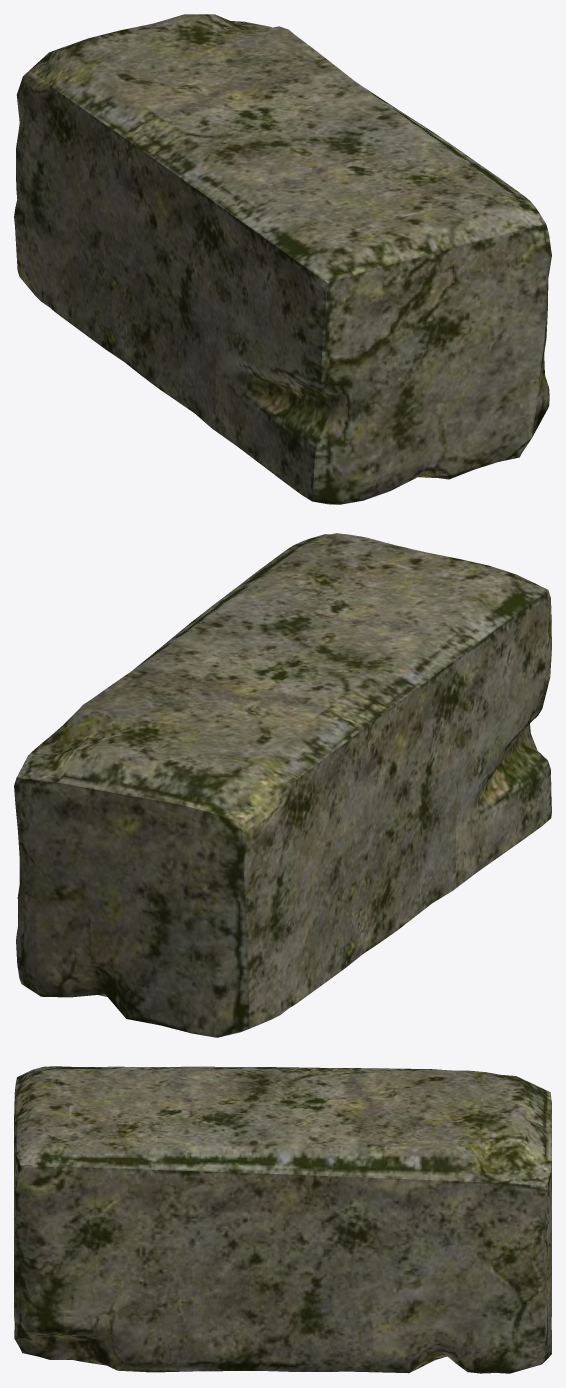
Rendered from rubble-pile.lod0.glb.
3 views of the same model, one above another, from view 1: azimuth 30°, elevation 25°; view 2: azimuth 150°, elevation 25°; view 3: azimuth 270°, elevation 25° (orthographic). The views are drawn at different scales.
Parts seen in each view (by area): view 1: polySurface183_lambert1_0; view 2: polySurface183_lambert1_0; view 3: polySurface183_lambert1_0.
Part boxes in pixels (bbox=[...]): polySurface183_lambert1_0: bbox=[14, 14, 551, 504]; polySurface183_lambert1_0: bbox=[14, 533, 551, 1037]; polySurface183_lambert1_0: bbox=[14, 1066, 551, 1373].
Size of the model in its own units: 1.3 by 1.3 by 2.9.
Materials: 1 (1 with a texture image).
